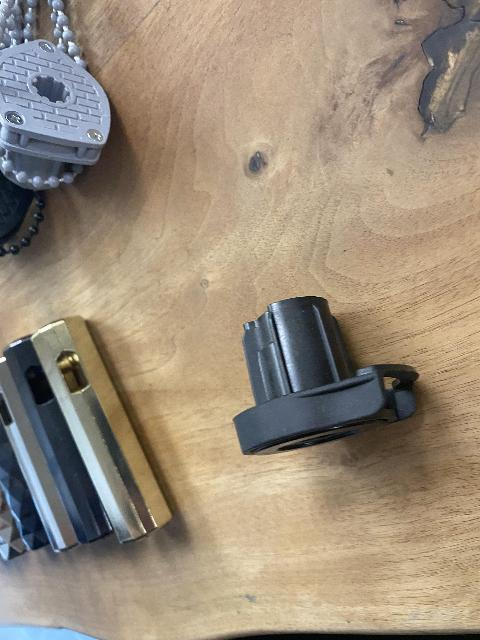Metal: (0, 335, 171, 589), (37, 319, 178, 543)
Plastik: (230, 287, 430, 467), (0, 56, 105, 186)
